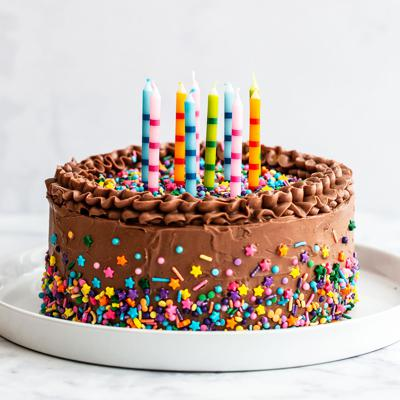cake: (37, 137, 360, 336)
